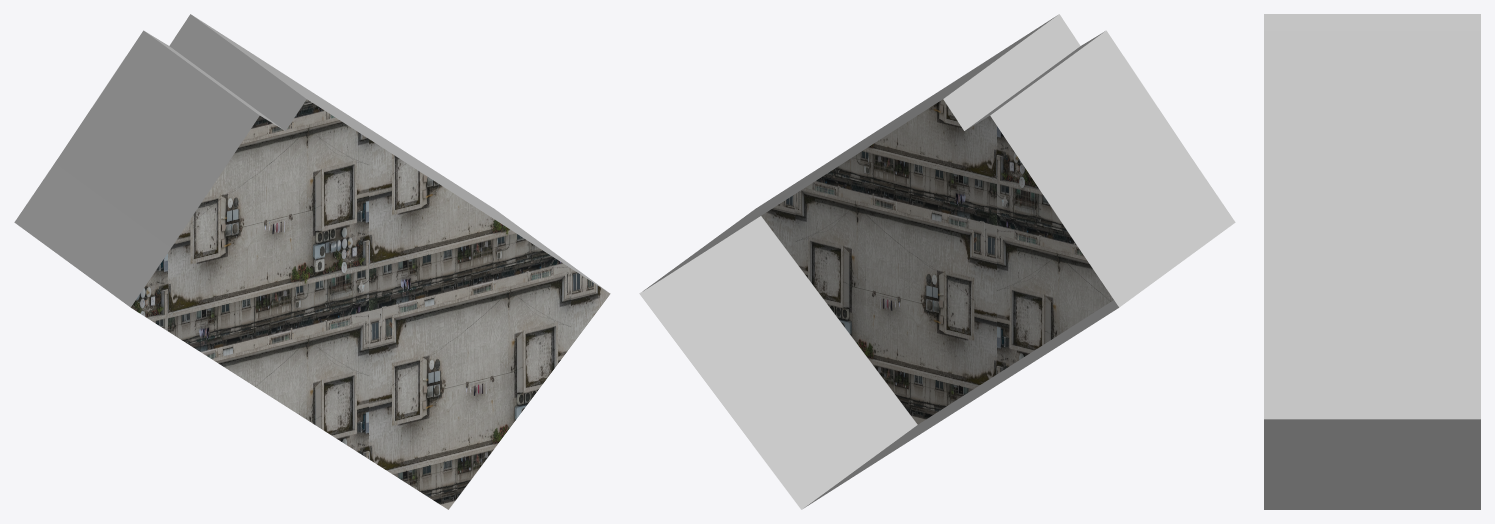
Rendered from geospecific_1851.obj.
3 renders of one model, left to right at view 1: azimuth 30°, elevation 25°; view 2: azimuth 150°, elevation 25°; view 3: azimuth 270°, elevation 25°, orthographic. The views are drawn at different scales.
Visible parts, largest first — view 1: Building; view 2: Building; view 3: Building.
Boxes of the visible parts, bbox=[...] form: Building: bbox=[14, 14, 610, 509]; Building: bbox=[639, 14, 1235, 509]; Building: bbox=[1264, 14, 1480, 509].
Bounding box in the file's own units: 35.73 × 31.68 × 15.
